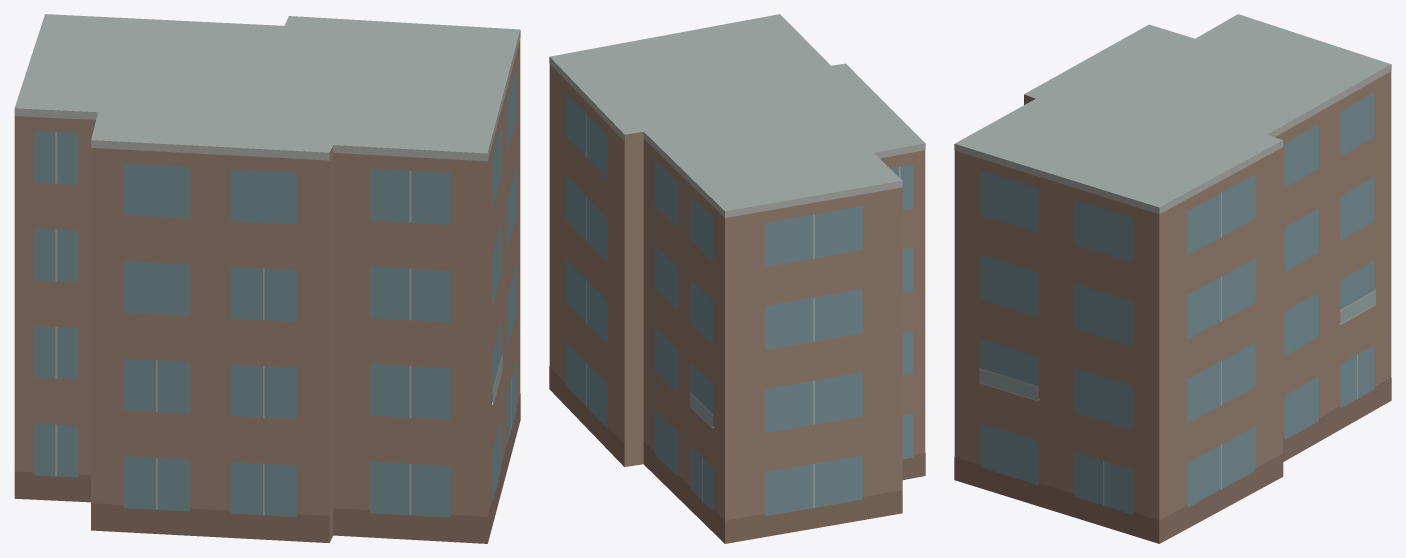
The model's file is survey-upis-32697591.glb.
3 renders of one model, left to right at view 1: azimuth 30°, elevation 25°; view 2: azimuth 150°, elevation 25°; view 3: azimuth 270°, elevation 25°, orthographic. The views are drawn at different scales.
Parts seen in each view (by area): view 1: survey-upis-32697591.tmp; view 2: survey-upis-32697591.tmp; view 3: survey-upis-32697591.tmp.
Part boxes in pixels (x1,y1,x2,y2): survey-upis-32697591.tmp: (14,14,520,543); survey-upis-32697591.tmp: (549,14,925,543); survey-upis-32697591.tmp: (954,14,1391,543).
Bounding box in the file's own units: 15.06 × 12.2 × 14.37.
